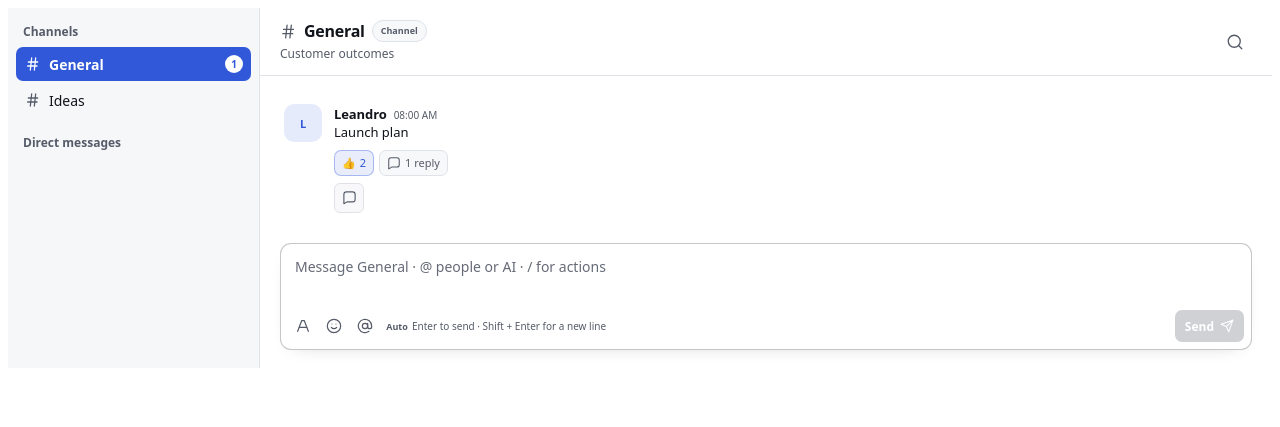
React 18 host compatibility › renders rooms, threads, reactions, and read state from the transport
The width and height of the screenshot is (1280, 427).
Expected: the button with aria-label "General, 1 unread" is shown, [16,47,251,81]
Expected: the button "Ideas" is shown, [16,83,251,117]
Click the button "1 reply" at (413, 163), box [379,150,448,176]
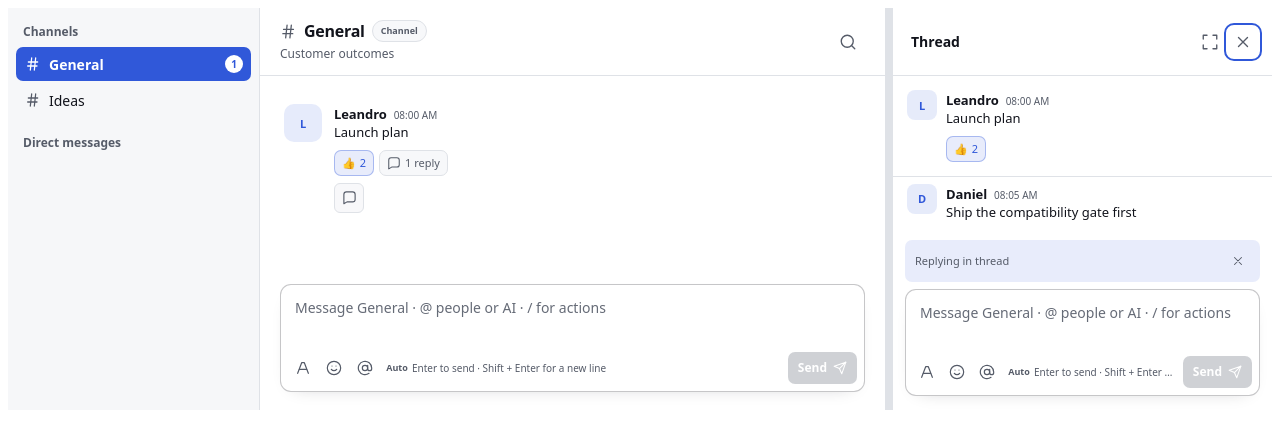
Now the text "Ship the compatibility gate first" is shown, box [946,203,1136,221]
Now the text "Replying in thread" is shown, box [915,253,1009,268]
Now the element named "Thread messages" is shown, box [893,76,1272,230]
